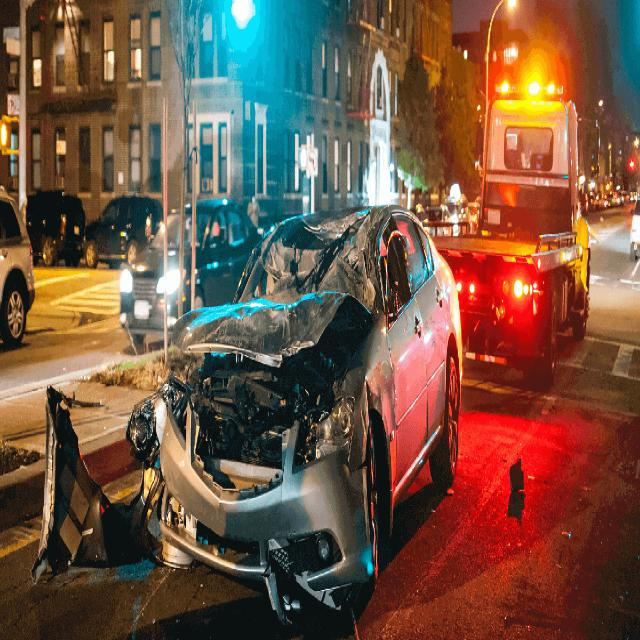accident: (31, 205, 461, 625)
car: (195, 199, 260, 307), (0, 188, 35, 346), (82, 196, 161, 265), (120, 229, 164, 345), (26, 191, 85, 265), (168, 210, 180, 329)
truck: (440, 98, 590, 382)
